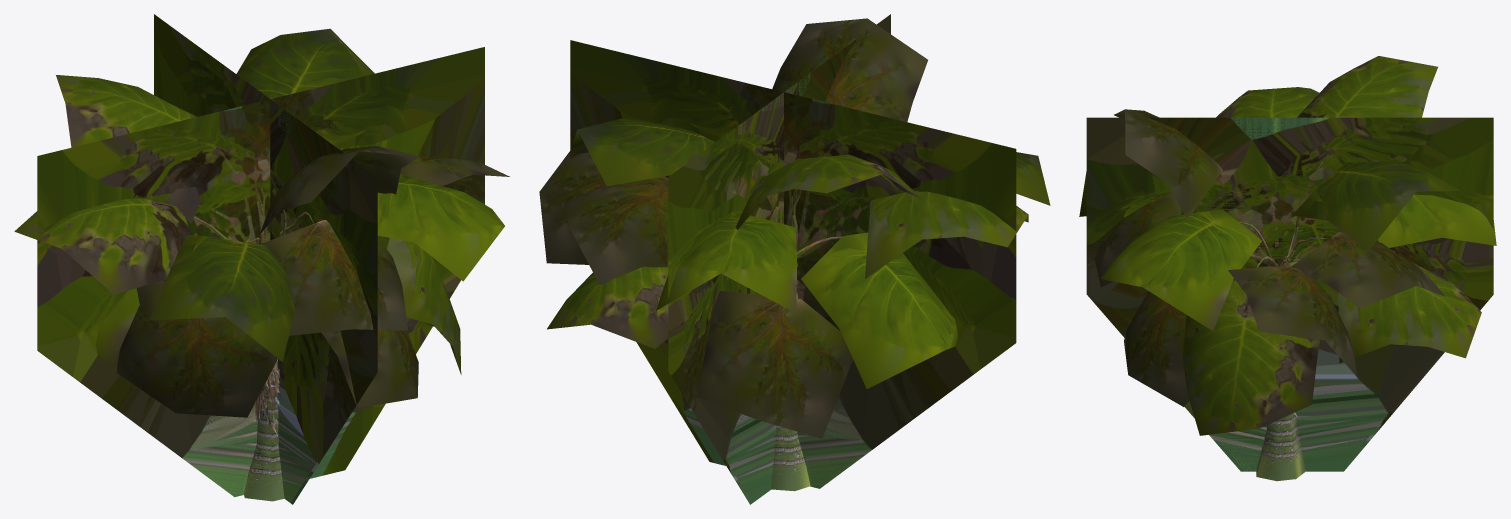
Rendered from Monstera3.fbx.
3 views of the same model, side by side, from view 1: azimuth 30°, elevation 25°; view 2: azimuth 150°, elevation 25°; view 3: azimuth 270°, elevation 25° (orthographic). The views are drawn at different scales.
Parts seen in each view (by area): view 1: LOD0, Billboard; view 2: LOD0, Billboard; view 3: LOD0, Billboard.
Part boxes in pixels (x1,y1,x2,y2): LOD0: [14, 28, 509, 501]; Billboard: [37, 14, 484, 504]; LOD0: [539, 18, 1050, 491]; Billboard: [570, 14, 1016, 504]; LOD0: [1079, 56, 1496, 481]; Billboard: [1086, 117, 1493, 471].
Size of what is drawn, in the model's own units: 250 by 204 by 212.
